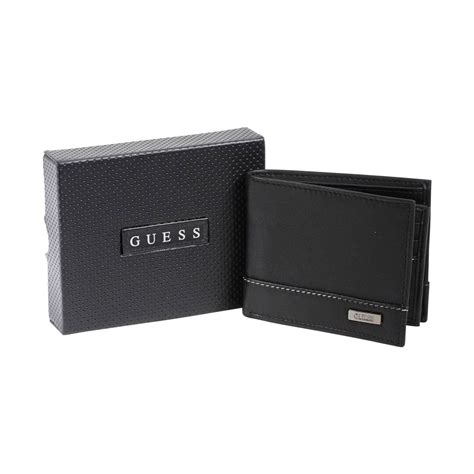cuero: (244, 164, 436, 350)
